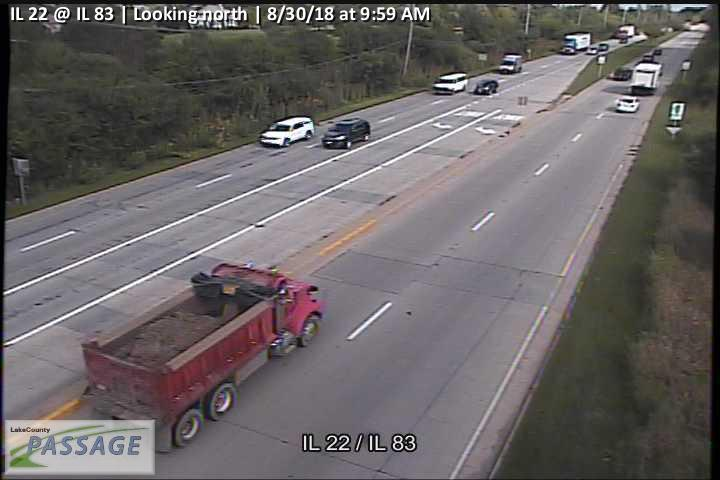SUV: (258, 116, 315, 147), (320, 117, 371, 148), (432, 73, 468, 95), (616, 96, 640, 113), (474, 79, 499, 95)
Truck: (80, 260, 327, 453), (629, 62, 662, 94), (560, 32, 590, 54), (498, 54, 522, 73), (616, 24, 635, 37)
